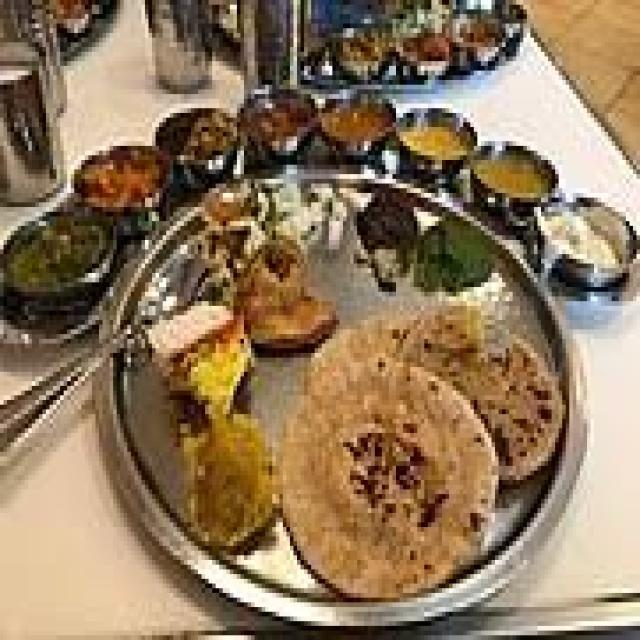dal: (0, 195, 117, 320), (470, 145, 559, 209)
roti: (277, 273, 552, 608)
sweet: (136, 208, 257, 402)
veg-fry: (294, 0, 482, 101)
